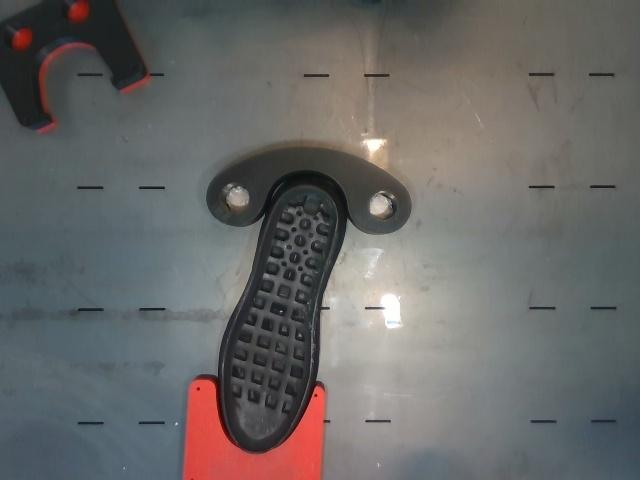shoes: (223, 186, 337, 452)
